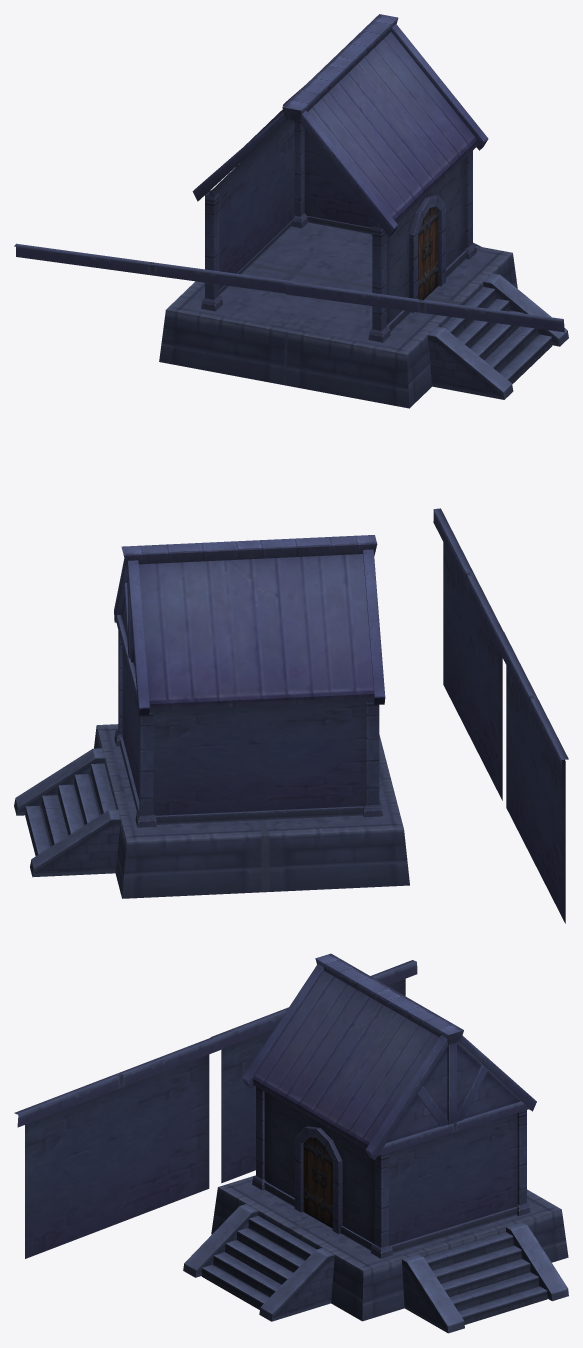
The model's file is Area06_17.fbx.
3 views of the same model, one above another, from view 1: azimuth 30°, elevation 25°; view 2: azimuth 150°, elevation 25°; view 3: azimuth 270°, elevation 25° (orthographic). The views are drawn at different scales.
Visible parts, largest first — view 1: Area06_17; view 2: Area06_17; view 3: Area06_17.
Boxes of the visible parts, x1=… form: Area06_17: x1=14, y1=14, x2=568, y2=408; Area06_17: x1=14, y1=508, x2=568, y2=923; Area06_17: x1=14, y1=953, x2=568, y2=1333.
Size of the model in its own units: 2963 by 1556 by 3016.
